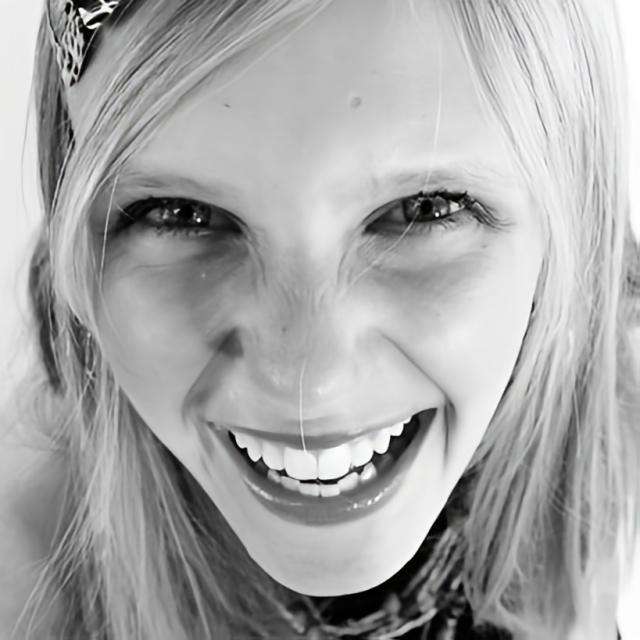happy: (89, 25, 529, 601)
